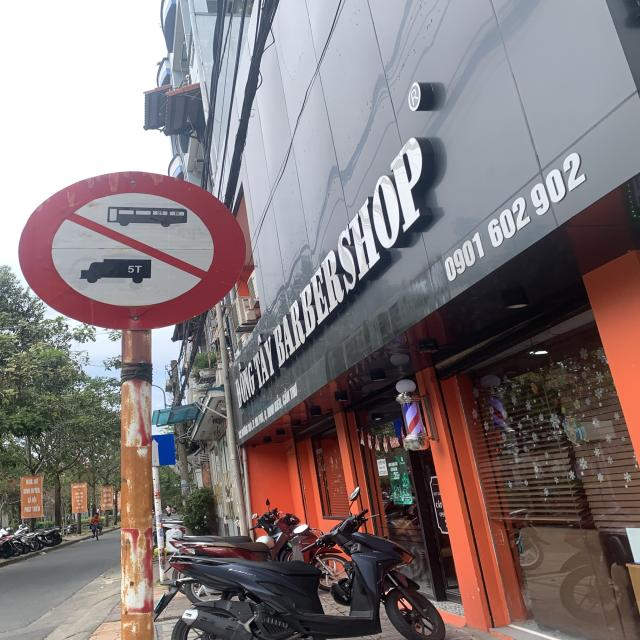Cam_XeTai_XeKhach: (21, 171, 250, 330)
